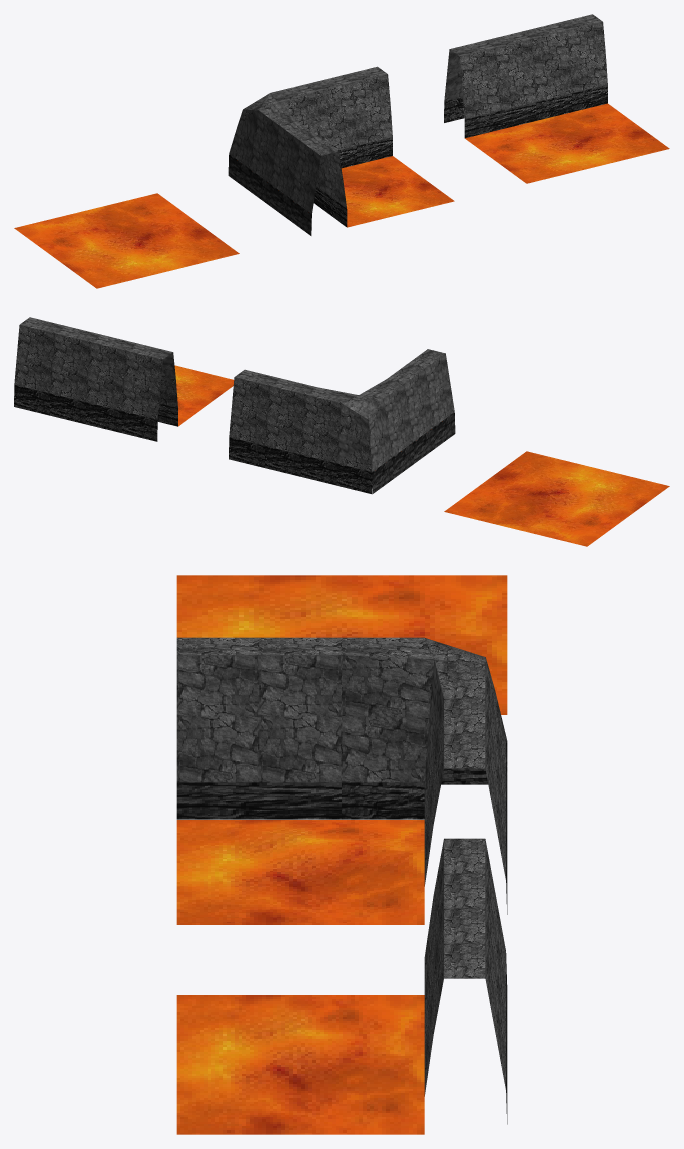
File: LavaTiles.gltf
3 renders of one model, top to bottom at view 1: azimuth 30°, elevation 25°; view 2: azimuth 150°, elevation 25°; view 3: azimuth 270°, elevation 25°, orthographic. The views are drawn at different scales.
Parts seen in each view (by area): view 1: edge, corner, lava; view 2: corner, edge, lava; view 3: corner, edge, lava.
Boxes of the visible parts, x1=… form: edge: x1=444, y1=14, x2=669, y2=183; corner: x1=228, y1=66, x2=454, y2=235; lava: x1=14, y1=193, x2=239, y2=288; corner: x1=229, y1=349, x2=455, y2=494; edge: x1=14, y1=317, x2=234, y2=441; lava: x1=444, y1=451, x2=669, y2=546; corner: x1=176, y1=637, x2=507, y2=924; edge: x1=176, y1=838, x2=507, y2=1134; lava: x1=176, y1=575, x2=507, y2=714.
Bounding box in the file's own units: 16 × 2.08 × 4.
Materials: 1 (1 with a texture image).
